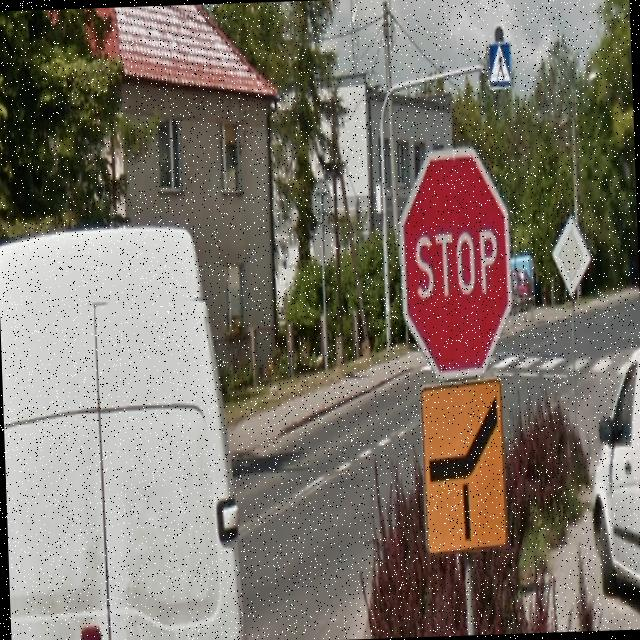Droga z pierwszenstwem: (548, 210, 593, 296)
Przejscie dla pieszych: (488, 42, 512, 92)
Stop: (394, 147, 514, 382)
